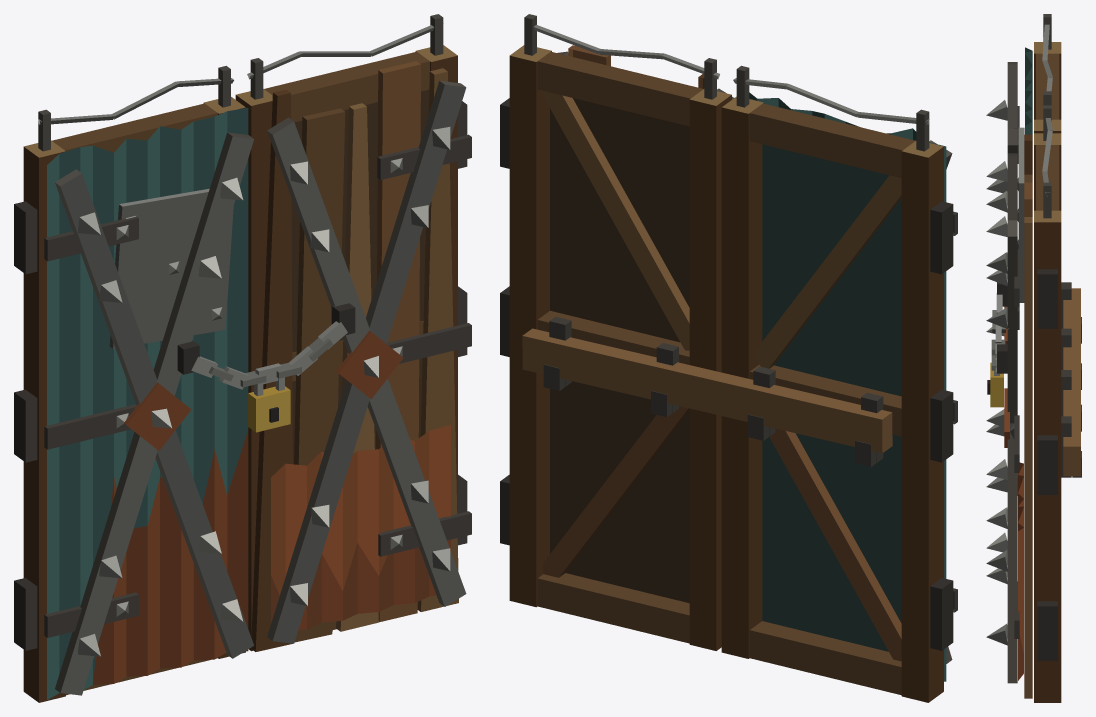
The model's file is portao.glb.
3 views of the same model, side by side, from view 1: azimuth 30°, elevation 25°; view 2: azimuth 150°, elevation 25°; view 3: azimuth 270°, elevation 25° (orthographic). The views are drawn at different scales.
Parts seen in each view (by area): view 1: portao.001; view 2: portao.001; view 3: portao.001.
Part boxes in pixels (bbox=[...]): portao.001: bbox=[14, 14, 471, 702]; portao.001: bbox=[500, 14, 957, 702]; portao.001: bbox=[986, 14, 1081, 702].
Size of the model in its own units: 1.64 by 2.07 by 0.3505.
